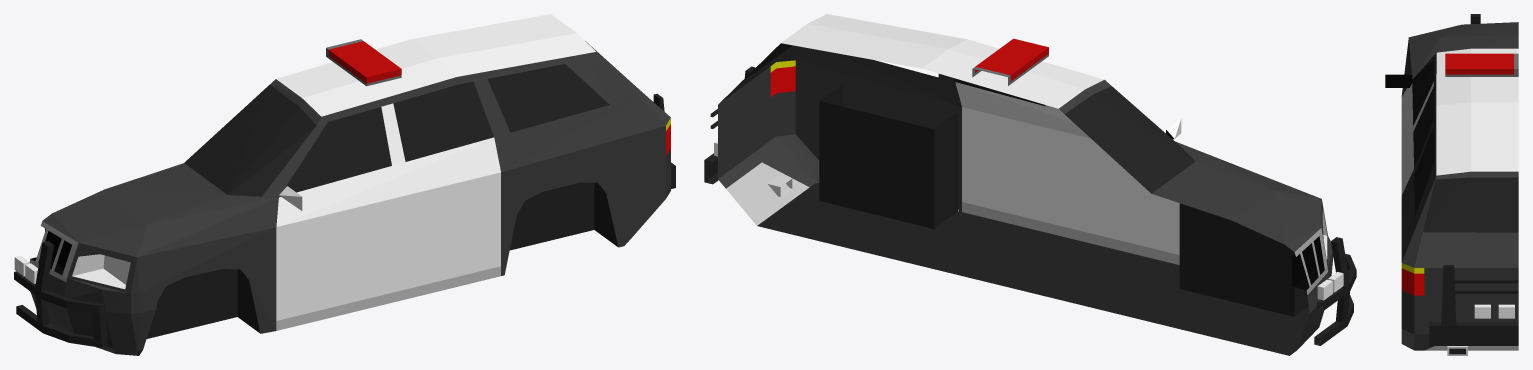
The model's file is suv.dae.
3 renders of one model, left to right at view 1: azimuth 30°, elevation 25°; view 2: azimuth 150°, elevation 25°; view 3: azimuth 270°, elevation 25°, orthographic. The views are drawn at different scales.
Parts seen in each view (by area): view 1: group_2 (×8), group_8, group_10, group_9, group_11, group_0, group_13; view 2: group_2 (×8), group_8, group_0, group_13, group_7; view 3: group_2 (×4), group_12, group_1 (×2), group_13, group_11, group_9, group_10, group_7, group_5 (×2), group_3, group_14, group_6 (+1 smaller).
Boxes of the visible parts, x1,y1,x2,y2 form: group_2 (×8): (29,14,670,355); group_8: (184,84,316,196); group_10: (393,81,493,161); group_9: (279,107,391,197); group_11: (487,64,609,132); group_0: (14,241,107,347); group_13: (328,41,401,83); group_2 (×8): (718,14,1333,355); group_8: (1065,86,1195,193); group_0: (1314,237,1356,345); group_13: (975,38,1048,81); group_7: (770,66,795,96); group_2 (×4): (1401,22,1518,350); group_12: (1423,177,1518,232); group_1 (×2): (1429,265,1518,345); group_13: (1445,53,1513,74); group_11: (1414,127,1433,216); group_9: (1412,60,1433,125); group_10: (1413,86,1433,168); group_7: (1401,268,1424,295); group_5 (×2): (1474,304,1514,318); group_3: (1385,74,1412,87); group_14: (1445,53,1518,76); group_6: (1401,263,1424,273).
Bounding box in the file's own units: 199 × 41.62 × 64.47.
